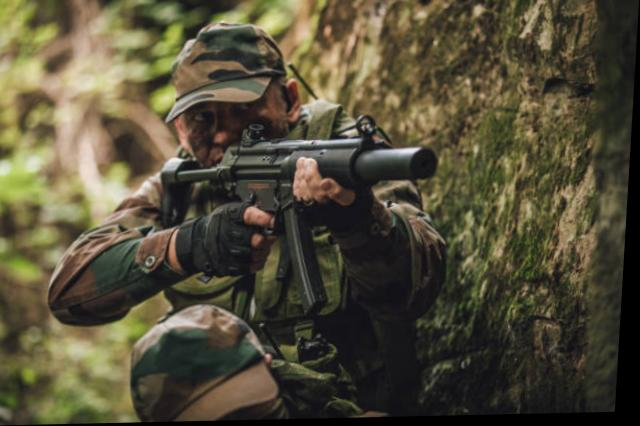other: (75, 17, 446, 372)
